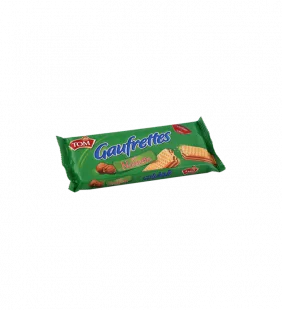TOM: (45, 109, 235, 203)
